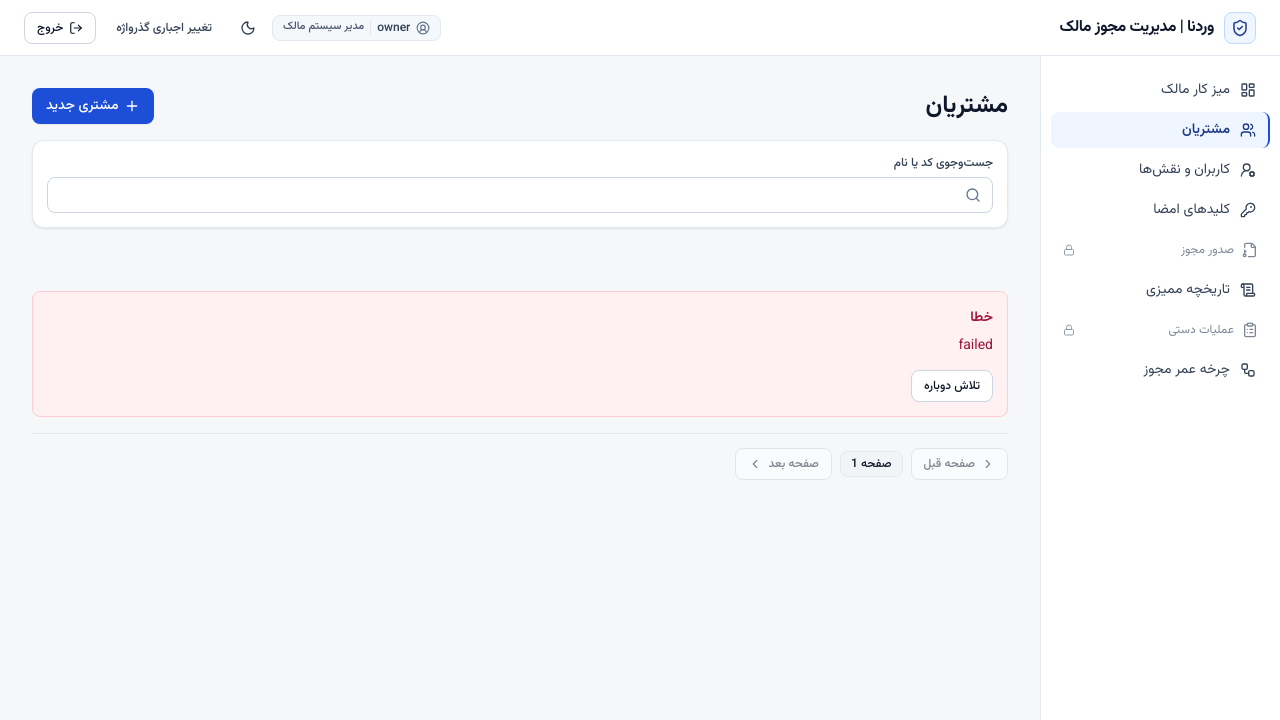
Owner browser vertical slice (mocked API boundary, CI) › shows an empty customer list and a retryable error instead of pretending success
The image size is (1280, 720).
Expected: the message "خطا failed تلاش دوباره" is shown, [32,291,1008,417]
Click the button "تلاش دوباره".
click(952, 386)  # box [911,370,993,402]
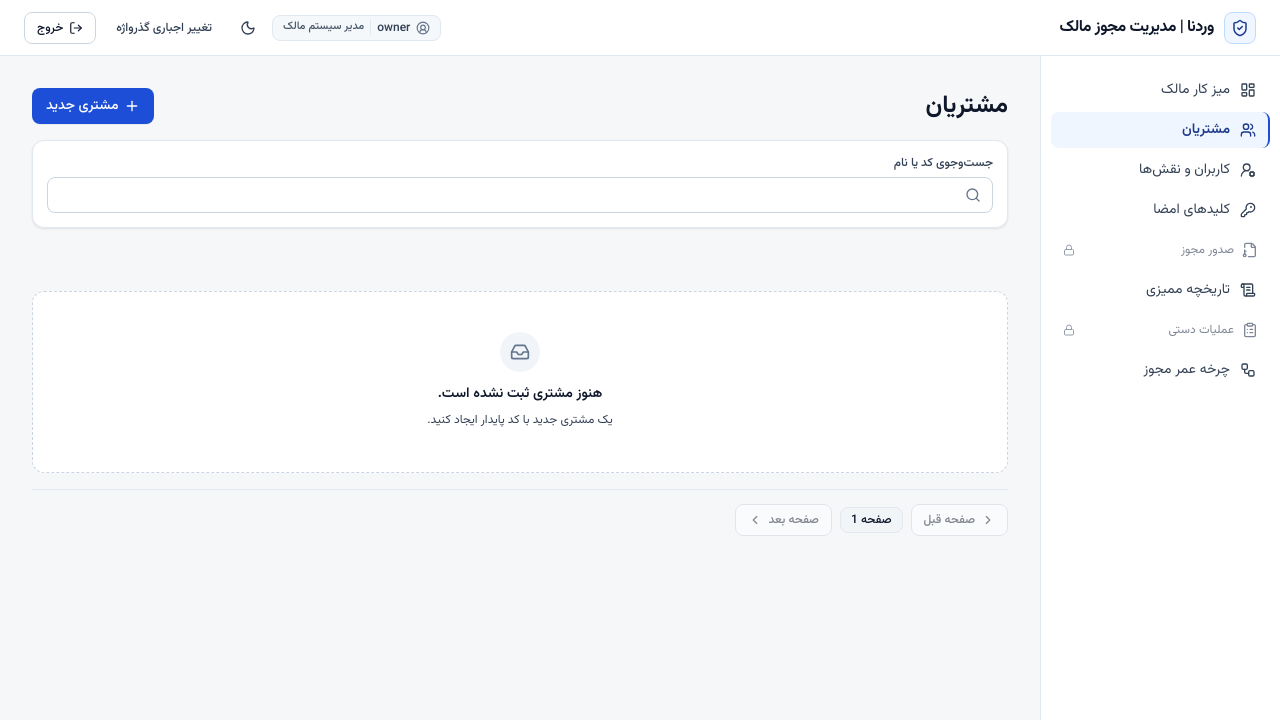
Result: the text "هنوز مشتری ثبت نشده است." is shown at [427,384,613,404]
